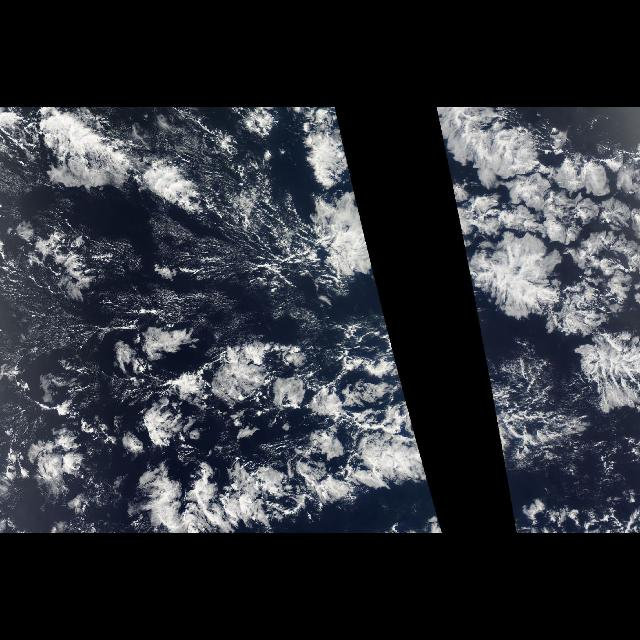Flower: (77, 292, 419, 530)
Gravel: (21, 312, 163, 453)
Sugar: (192, 178, 324, 298)
